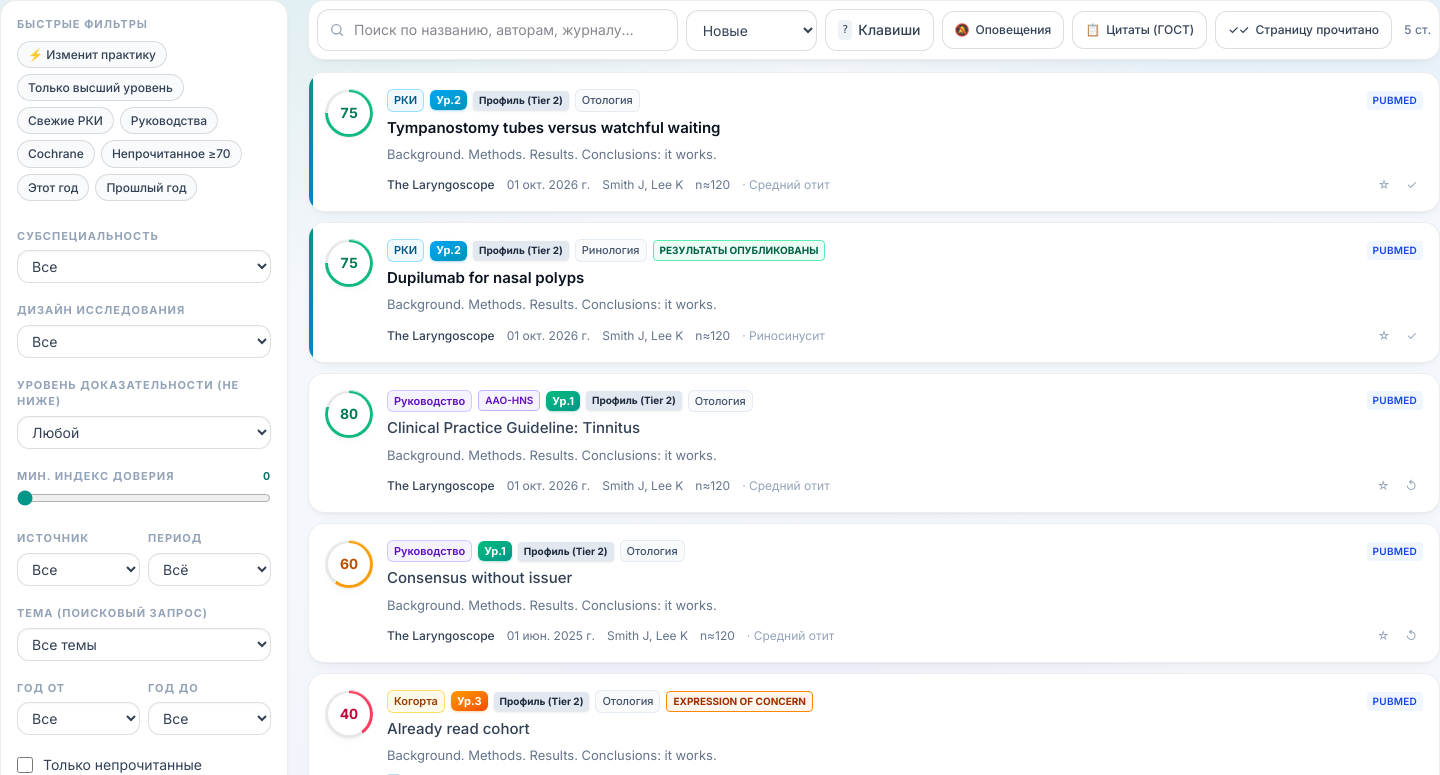
Scenario: <Feed /> › руководства (A-06): при дизайне «руководство» появляются чипы издателей; клик фильтрует по issuer и пишет его в URL
Expected: the text "AAO-HNS" is shown, [478,390,540,411]
Step 1. Select "Руководство" in the dropdown labelled "Дизайн исследования" → (144, 342), box [17,325,271,358]
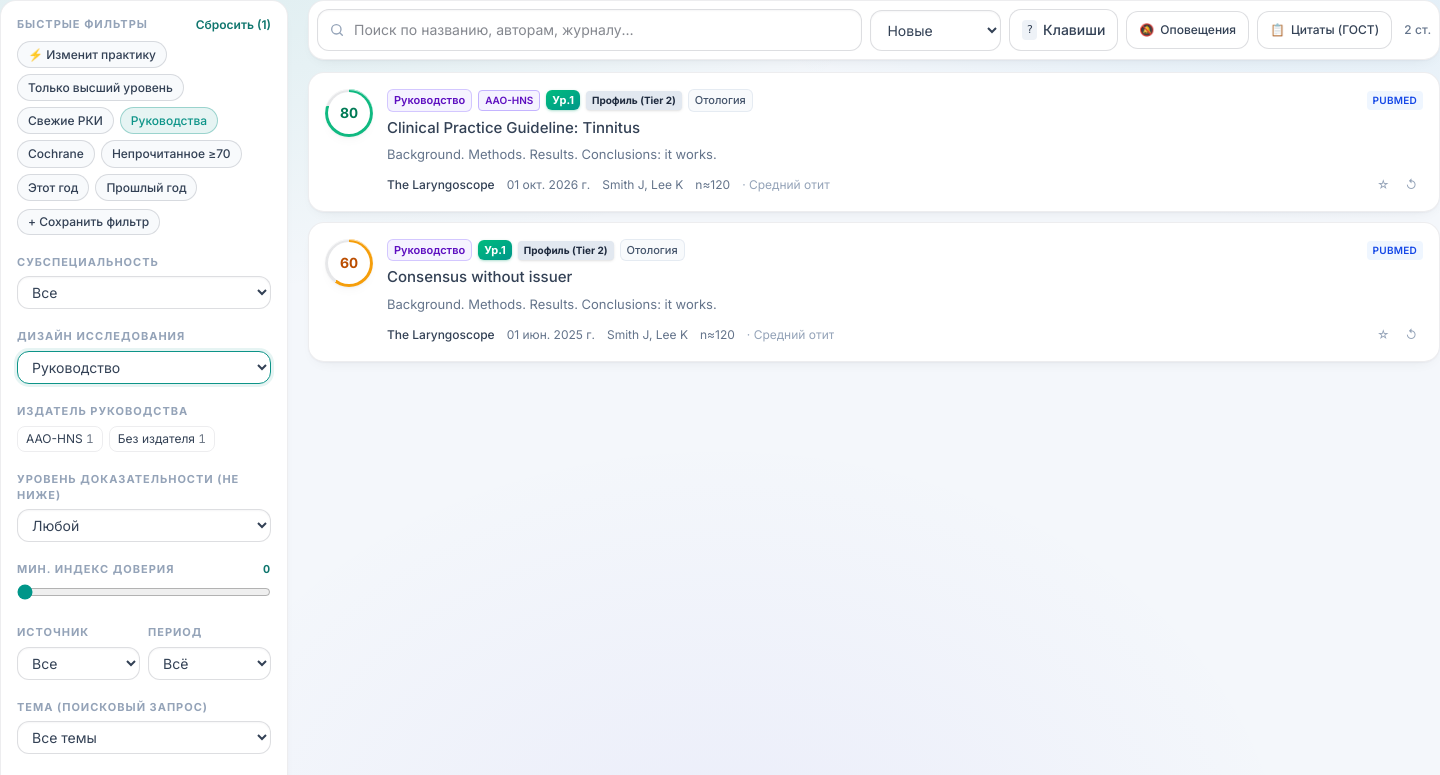
Now the button "Без издателя 1" is shown, box [109,426,215,452]
Step 2. Click the button "AAO-HNS 1" → (60, 439), box [17,426,103,452]
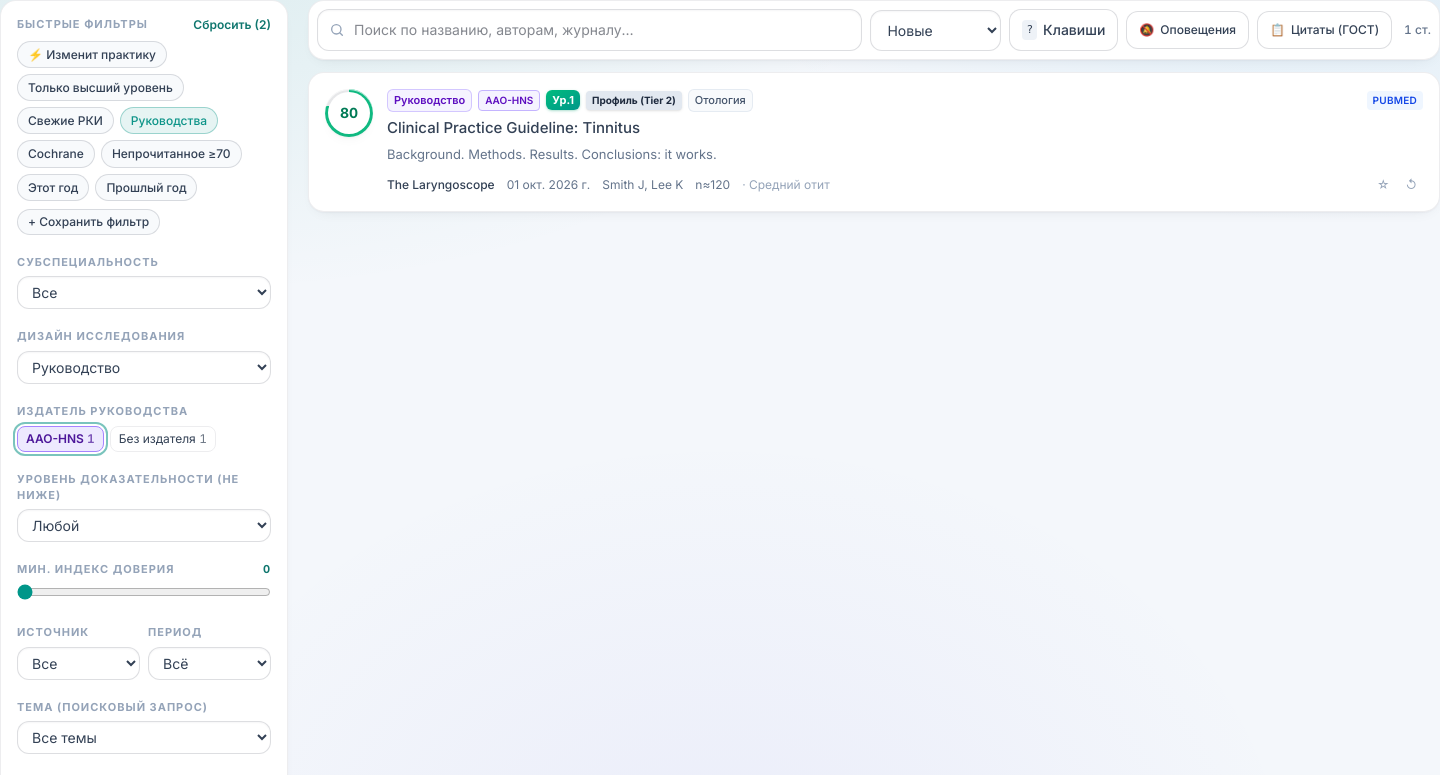
Now the button "AAO-HNS 1" is pressed, box [17,426,104,452]
// Смена дизайна на не-руководство сбрасывает издателя
Step 3. Select "РКИ" in the dropdown labelled "Дизайн исследования" → (144, 368), box [17,351,271,384]
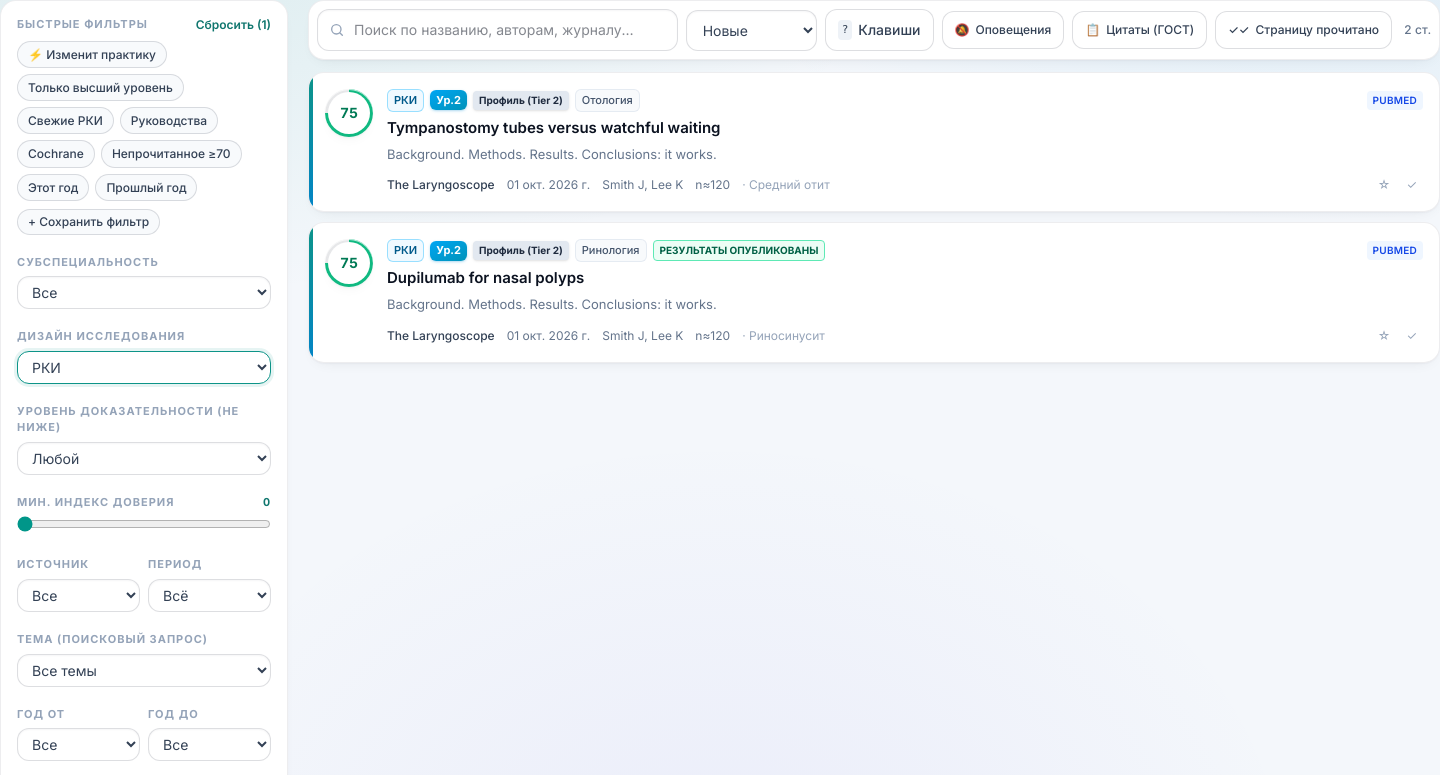
Now the element with test id "issuer-facet" is gone
